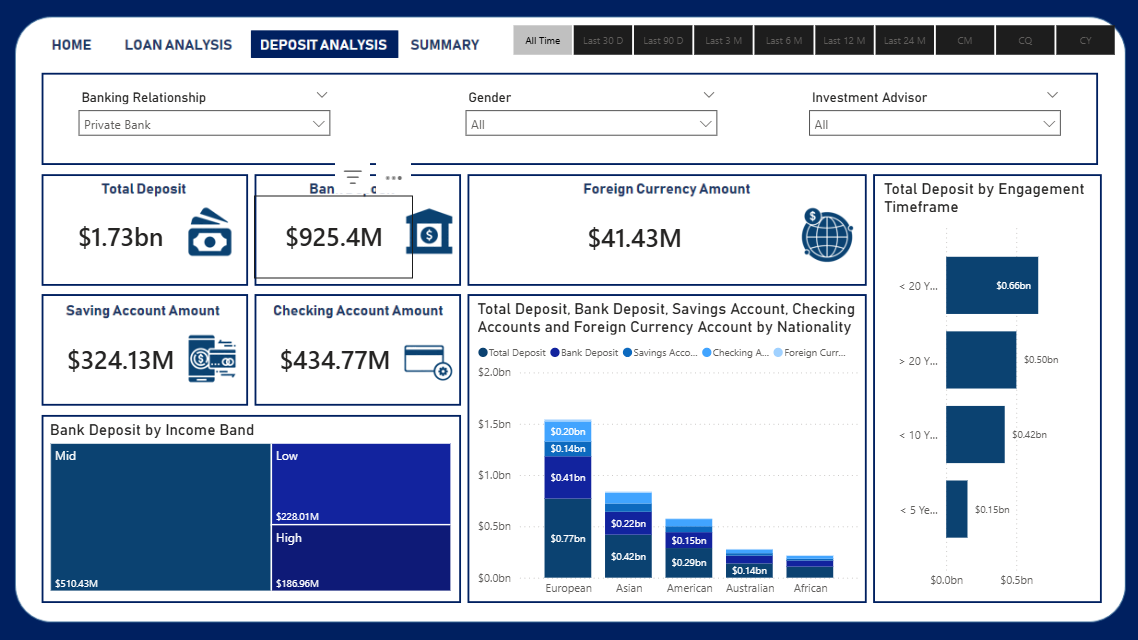

The dashboard page shown, as its layout file describes it:
{"tool":"powerbi","page":{"name":"Deposit Analysis","canvas":[1280,720],"ordinal":2},"visuals":[{"type":"card","fields":{"Values":["DAX Measures.Total Deposit"]},"box":[72.7,226.3,161.8,90.3],"z":0},{"type":"card","fields":{"Values":["DAX Measures.Bank Deposit"]},"box":[299,226.3,172.4,89.1],"z":1000},{"type":"card","fields":{"Values":["DAX Measures.Savings Account"]},"box":[72.7,360,161.8,89.1],"z":2000},{"type":"card","fields":{"Values":["DAX Measures.Checking Accounts"]},"box":[300.2,360,171.2,89.1],"z":3000},{"type":"slicer","fields":{"Values":["Banking Relationship.Banking Relationship"]},"box":[98.5,105.2,292.9,75.7],"z":4000},{"type":"slicer","fields":{"Values":["Gender.Gender"]},"box":[518.9,105.2,292.9,75.7],"z":5000},{"type":"slicer","fields":{"Values":["Investment Advisor.Investment Advisor"]},"box":[891.3,105.2,292.9,75.7],"z":6000},{"type":"card","fields":{"Values":["DAX Measures.Foreign Currency Account"]},"box":[537.1,227.5,349.4,89.1],"z":7000},{"type":"treemap","fields":{"Group":["Clients - Banking.Income Band"],"Values":["DAX Measures.Bank Deposit"]},"box":[72.7,470.2,444.4,190],"z":8000},{"type":"columnChart","fields":{"Category":["Clients - Banking.Nationality"],"Y":["DAX Measures.Total Deposit","DAX Measures.Bank Deposit","DAX Measures.Savings Account","DAX Measures.Checking Accounts","DAX Measures.Foreign Currency Account"]},"box":[537.1,338.9,423.3,331.9],"z":9000},{"type":"clusteredBarChart","fields":{"Category":["Clients - Banking.Engagement Timeframe"],"Y":["DAX Measures.Total Deposit"]},"box":[978,207.6,234.5,452.6],"z":10000},{"type":"slicer","fields":{"Values":["Period.Name"]},"box":[555.2,34.6,702.1,46.6],"z":11000},{"type":"actionButton","box":[72.8,44.2,58.5,31],"z":12000},{"type":"actionButton","box":[160,44.2,119.4,31],"z":13000},{"type":"actionButton","box":[471.6,44.2,83.6,31],"z":14000}]}

Visuals, with their boxes in screenshot pixels (x1, y1, x2, y2), scaled from the page's 1280x720 canvas onto the 1138x640 screenshot:
card - DAX Measures.Total Deposit: <bbox>65, 201, 208, 281</bbox>
card - DAX Measures.Bank Deposit: <bbox>266, 201, 419, 280</bbox>
card - DAX Measures.Savings Account: <bbox>65, 320, 208, 399</bbox>
card - DAX Measures.Checking Accounts: <bbox>267, 320, 419, 399</bbox>
slicer - Banking Relationship.Banking Relationship: <bbox>88, 94, 348, 161</bbox>
slicer - Gender.Gender: <bbox>461, 94, 722, 161</bbox>
slicer - Investment Advisor.Investment Advisor: <bbox>792, 94, 1053, 161</bbox>
card - DAX Measures.Foreign Currency Account: <bbox>478, 202, 788, 281</bbox>
treemap - Clients - Banking.Income Band x DAX Measures.Bank Deposit: <bbox>65, 418, 460, 587</bbox>
columnChart - Clients - Banking.Nationality x DAX Measures.Total Deposit: <bbox>478, 301, 854, 596</bbox>
clusteredBarChart - Clients - Banking.Engagement Timeframe x DAX Measures.Total Deposit: <bbox>870, 185, 1078, 587</bbox>
slicer - Period.Name: <bbox>494, 31, 1118, 72</bbox>
actionButton: <bbox>65, 39, 117, 67</bbox>
actionButton: <bbox>142, 39, 248, 67</bbox>
actionButton: <bbox>419, 39, 494, 67</bbox>
